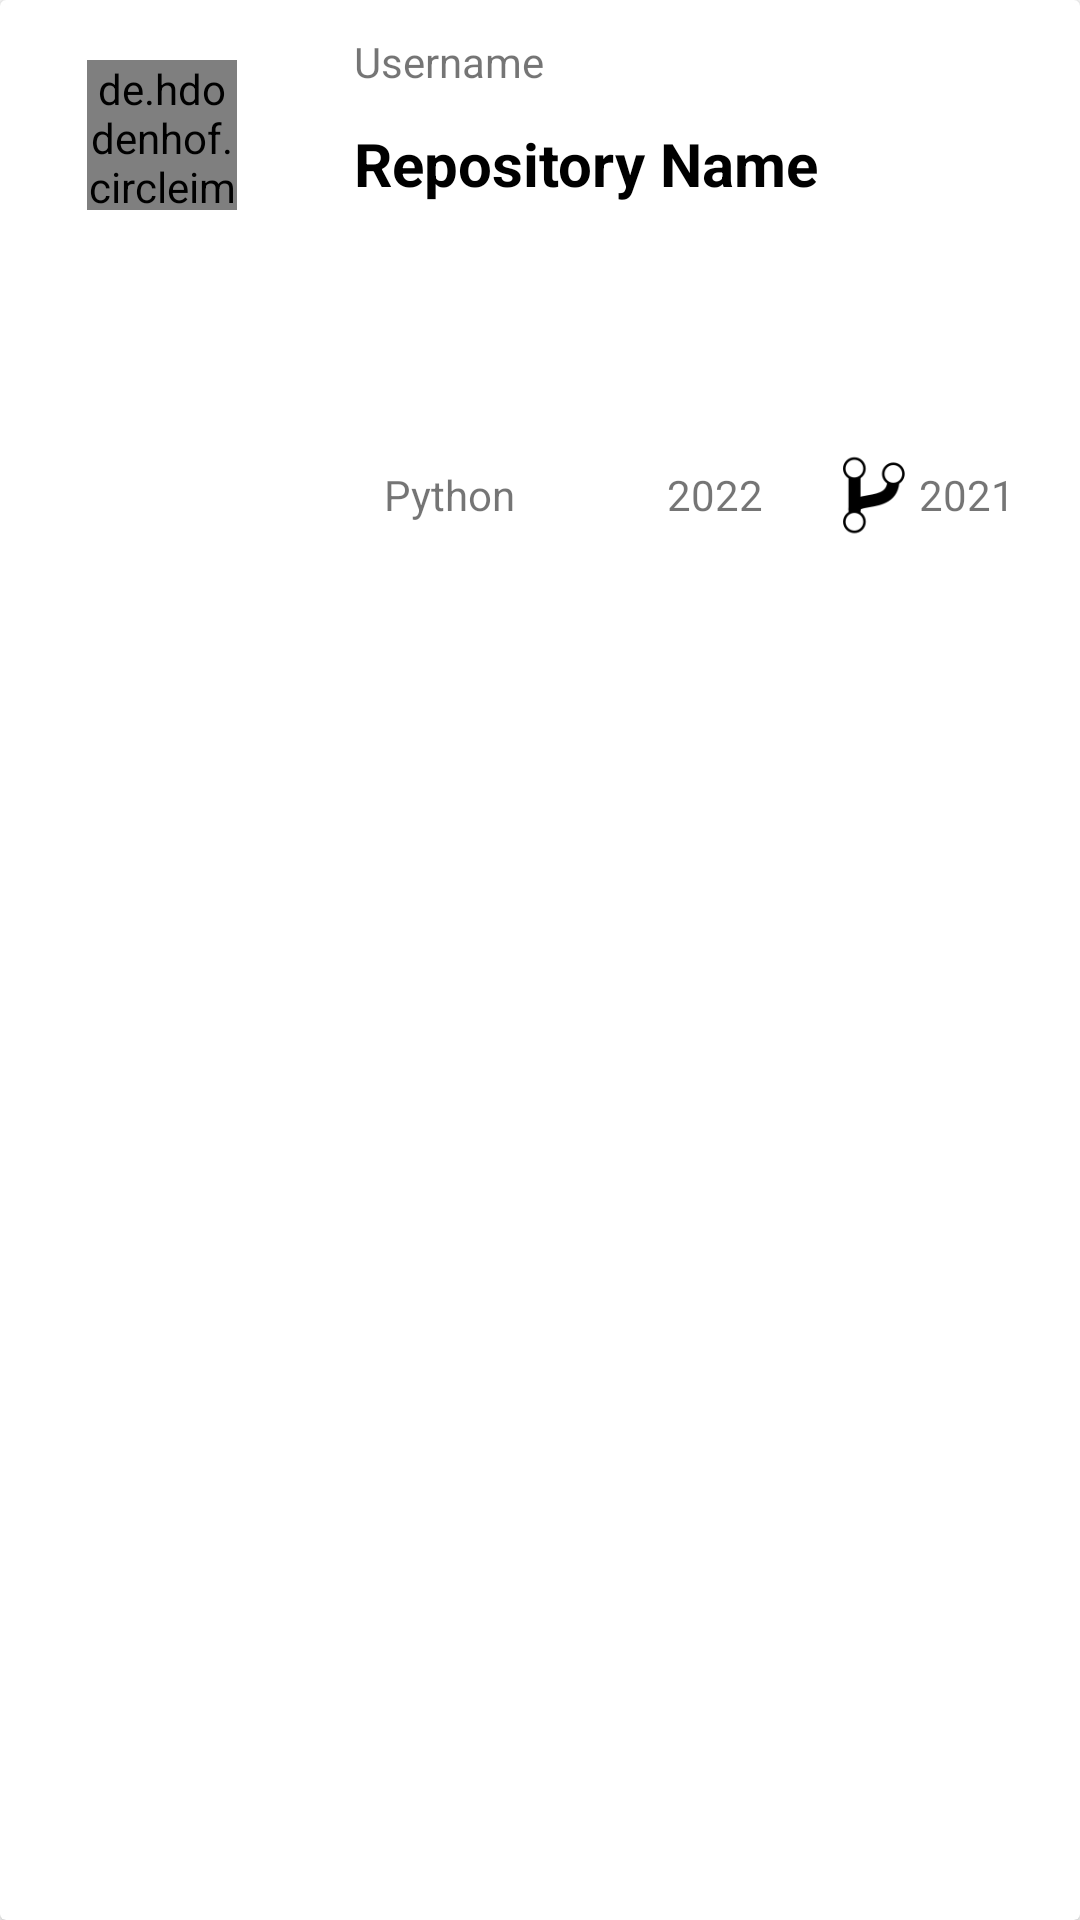

Icons on this 1080×1920 Android screen, each with the point to tap as [x,y]:
fork: [874,495]
